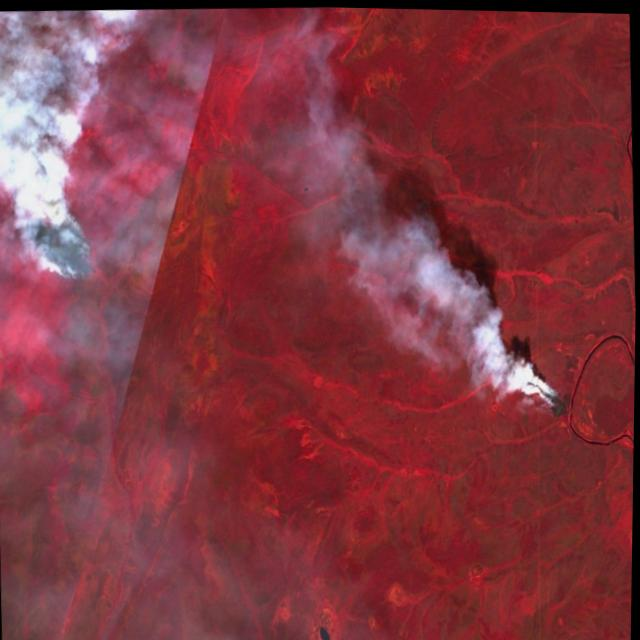fire: (16, 192, 112, 290), (525, 369, 582, 430)
